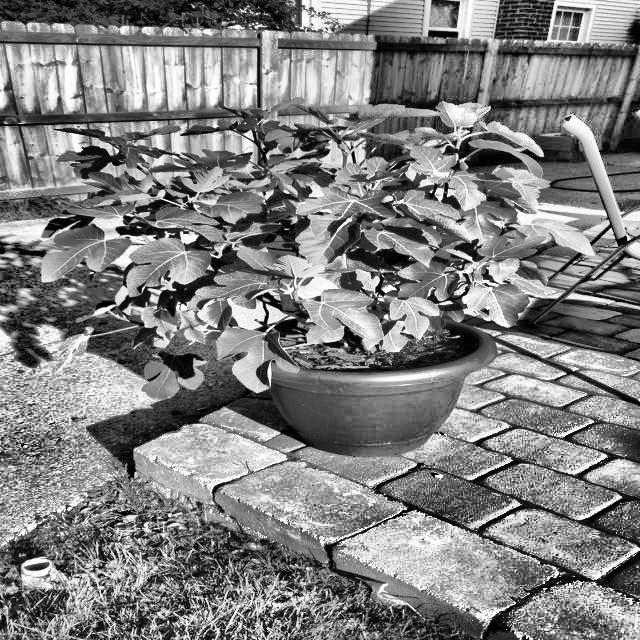plants: (34, 100, 593, 456), (45, 320, 242, 372), (272, 279, 364, 311)
